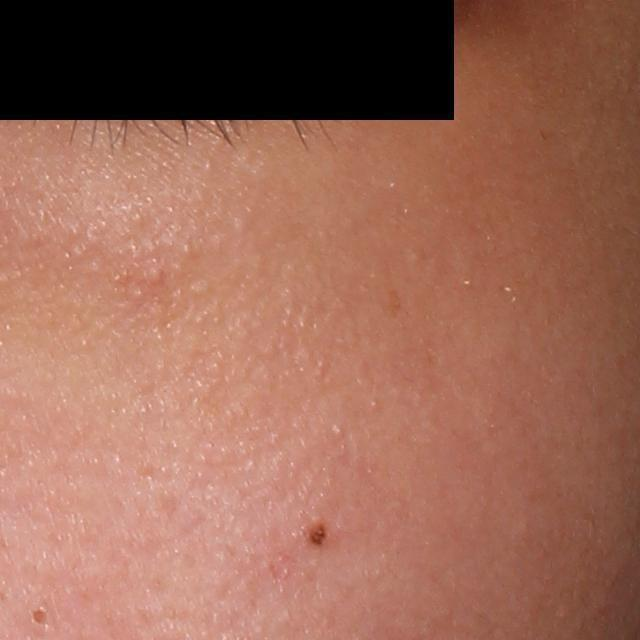comedo: (26, 601, 52, 631), (147, 264, 168, 286)
nevus: (303, 515, 335, 550)
